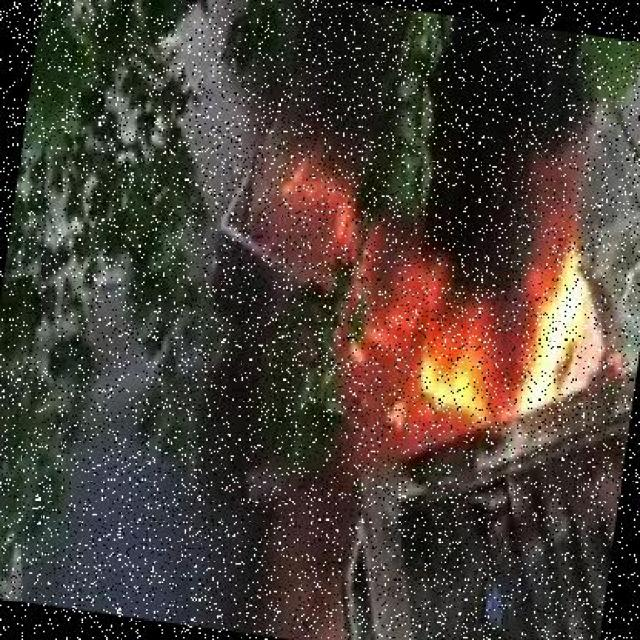fire: (202, 112, 638, 510)
